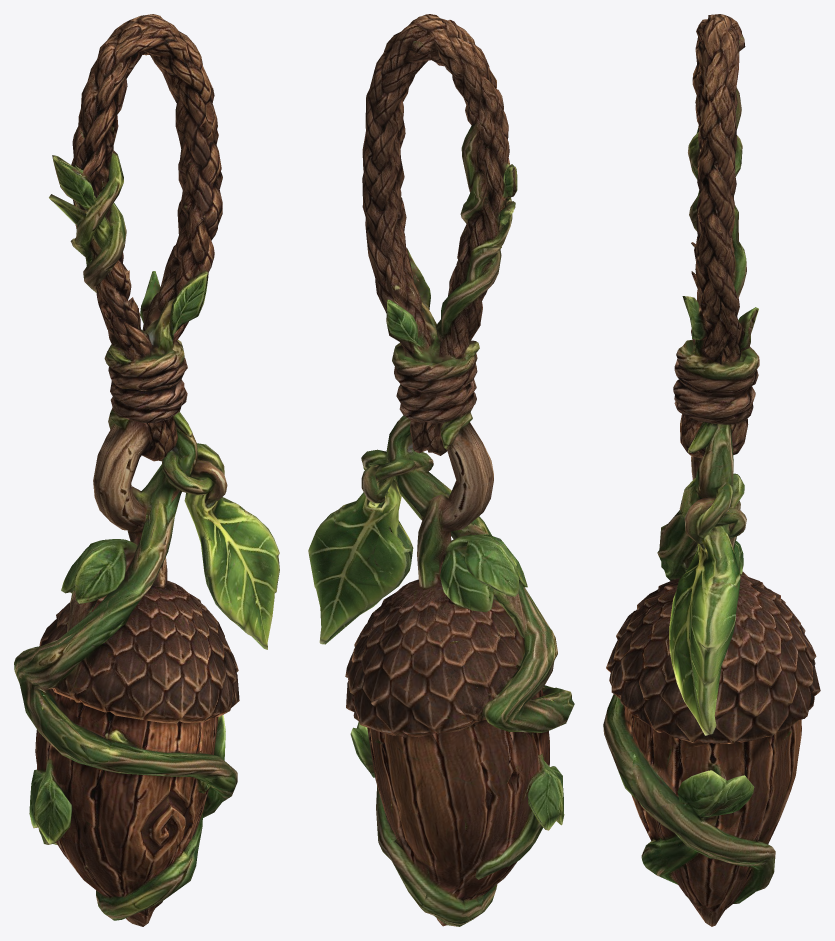
File: set-forest-charm.glb
The picture shows the model from 3 angles, left to right: view 1: azimuth 30°, elevation 25°; view 2: azimuth 150°, elevation 25°; view 3: azimuth 270°, elevation 25°; orthographic projection.
Parts seen in each view (by area): view 1: Motion_Control; view 2: Motion_Control; view 3: Motion_Control.
Boxes of the visible parts, x1=… form: Motion_Control: x1=14, y1=14, x2=279, y2=926; Motion_Control: x1=308, y1=14, x2=574, y2=926; Motion_Control: x1=603, y1=14, x2=820, y2=926.
Bounding box in the file's own units: 0.542 × 1.9 × 0.4105.
Materials: 1 (1 with a texture image).
